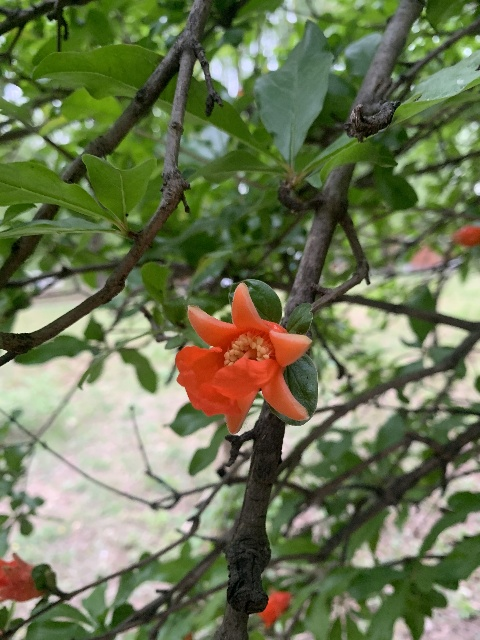bud: (452, 226, 480, 247)
flower: (173, 283, 312, 435), (0, 551, 39, 603), (256, 590, 291, 629)
